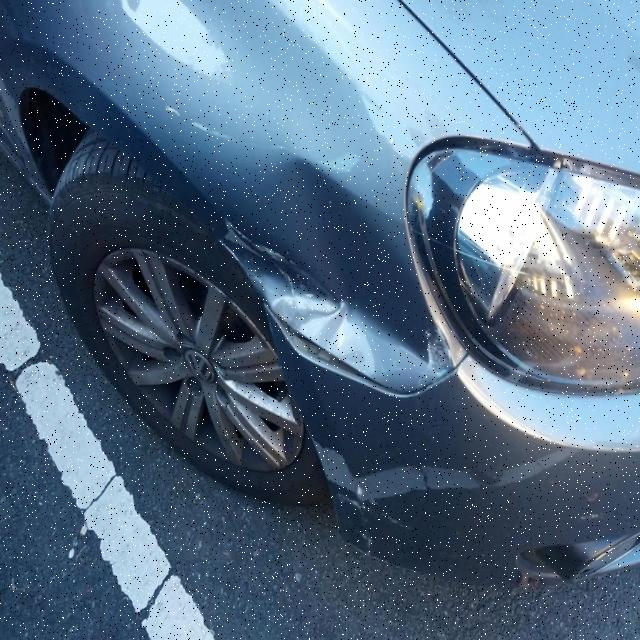damage: (264, 160, 435, 348), (219, 218, 376, 378), (421, 327, 459, 377)
